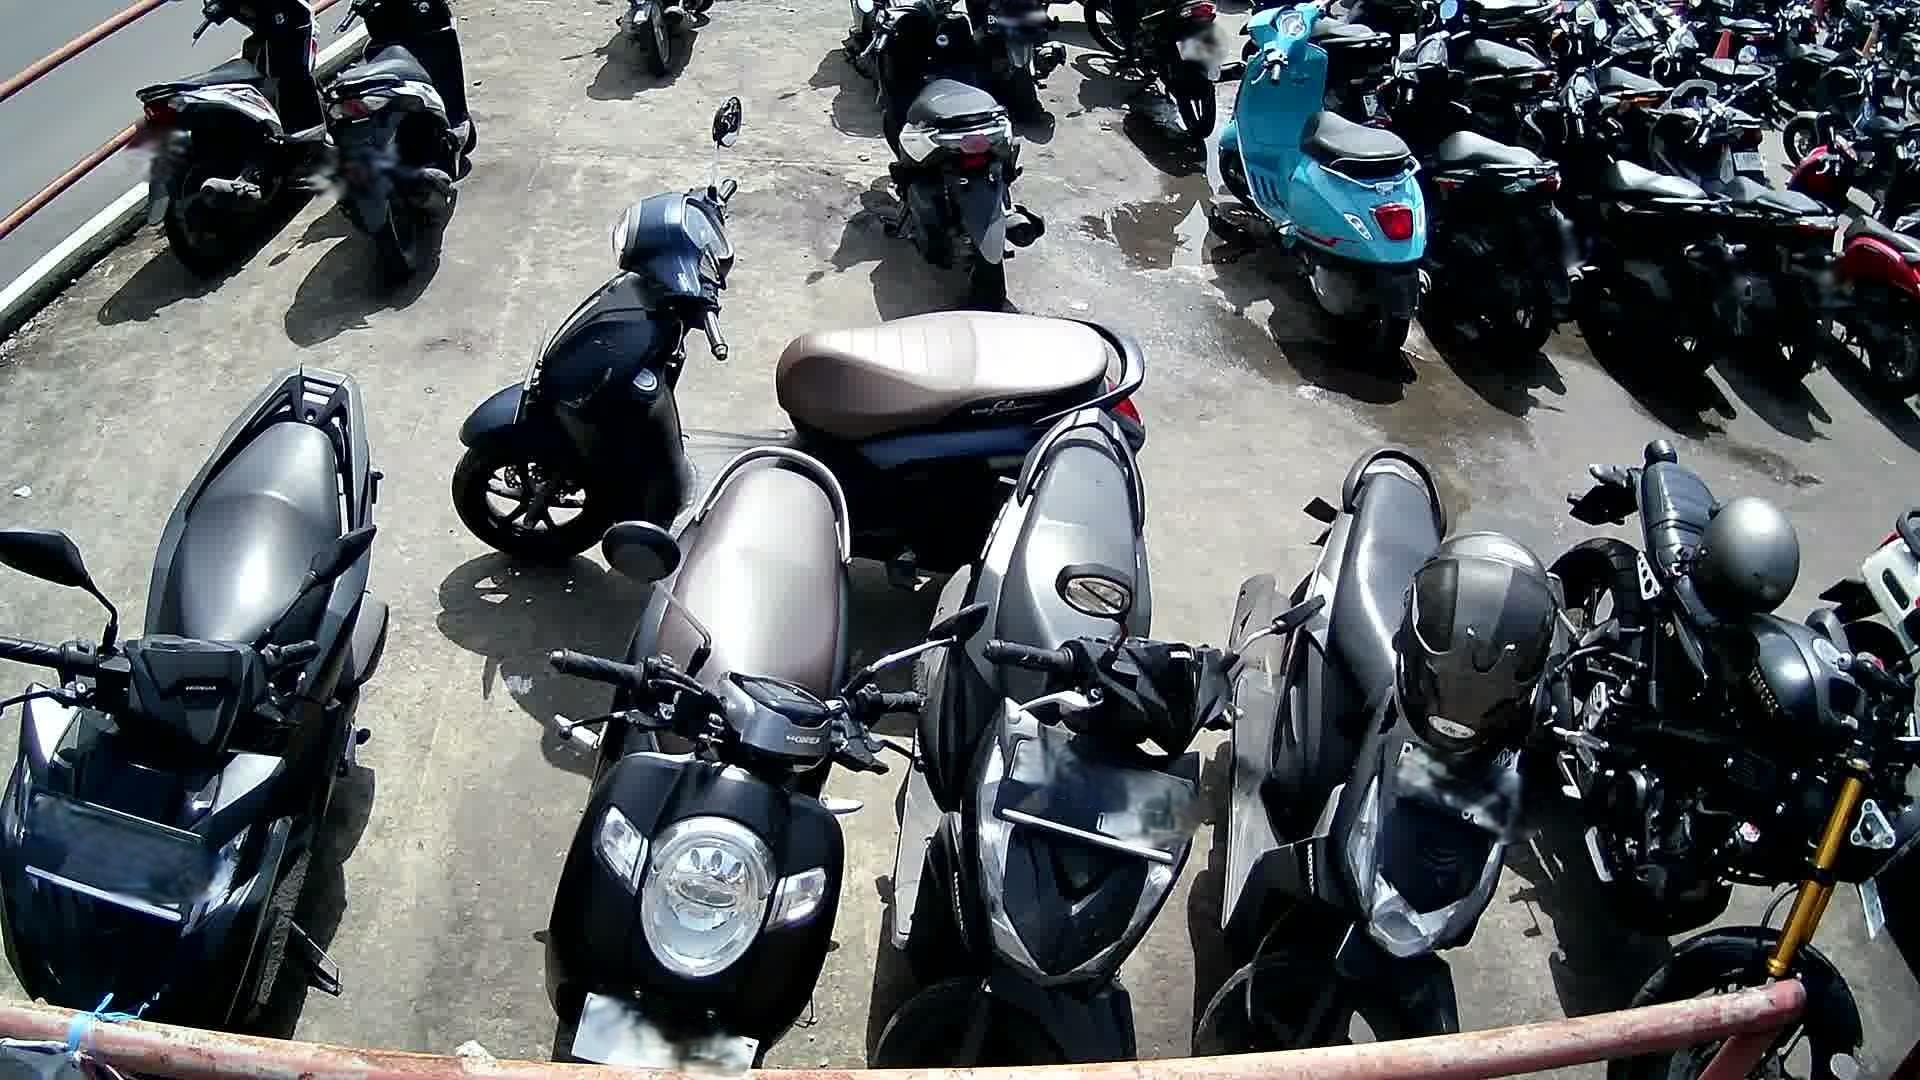motorcycle: (455, 90, 1146, 568), (0, 367, 392, 1037), (879, 407, 1267, 1062), (546, 447, 928, 1080), (1199, 445, 1574, 1080), (1554, 437, 1918, 1080), (1519, 18, 1760, 385), (1369, 0, 1586, 369), (1215, 4, 1431, 364), (1639, 78, 1847, 390), (854, 0, 1048, 302), (136, 0, 331, 276), (320, 0, 481, 283), (1783, 108, 1920, 403)
